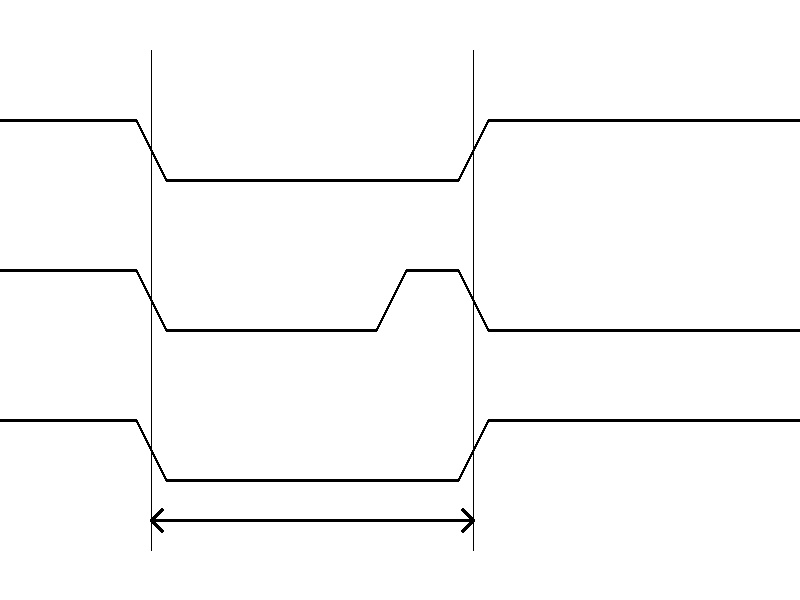double_arrow: (151, 505, 473, 535)
